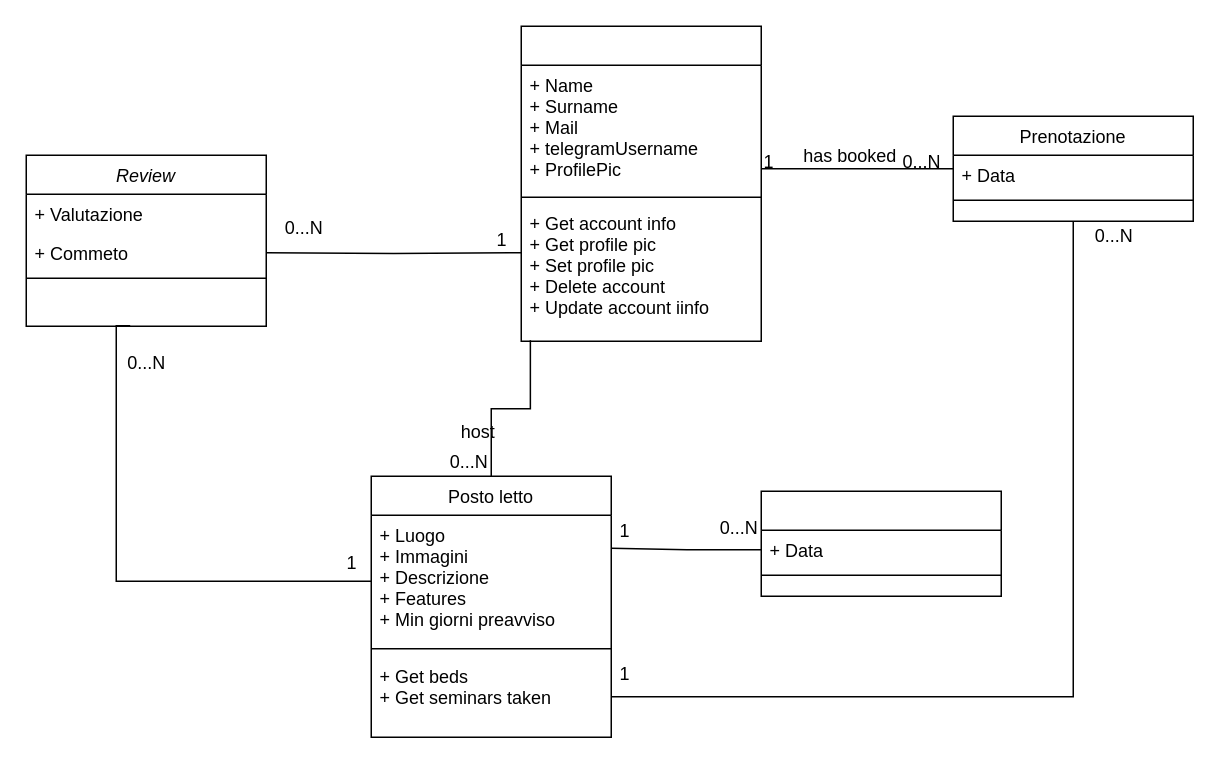
The diagram is 1220 pixels wide and 768 high, and some of its shapes have lost their labels. The shapes that lost their labels are listed below. From the top down, each one's box as (x1, y1, x2, y2) in pixels, then its label:
(520, 25, 761, 341): Utente
(760, 490, 1001, 596): Disponibilità
